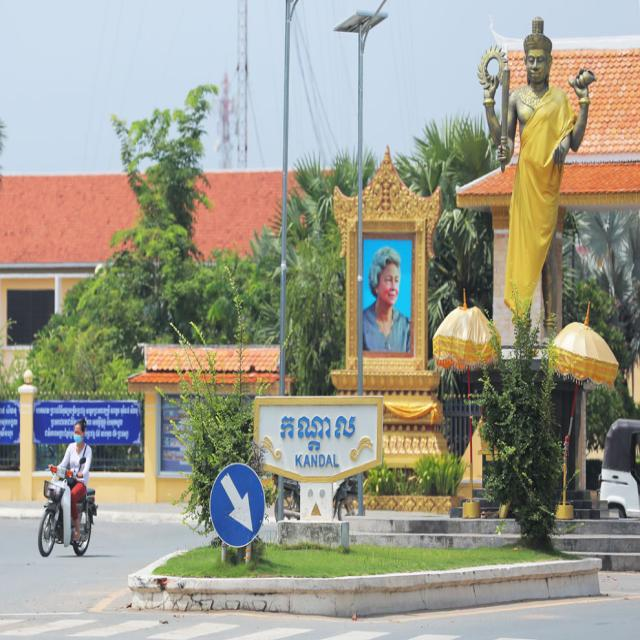Yolov11_80vkh: (273, 407, 357, 457)
